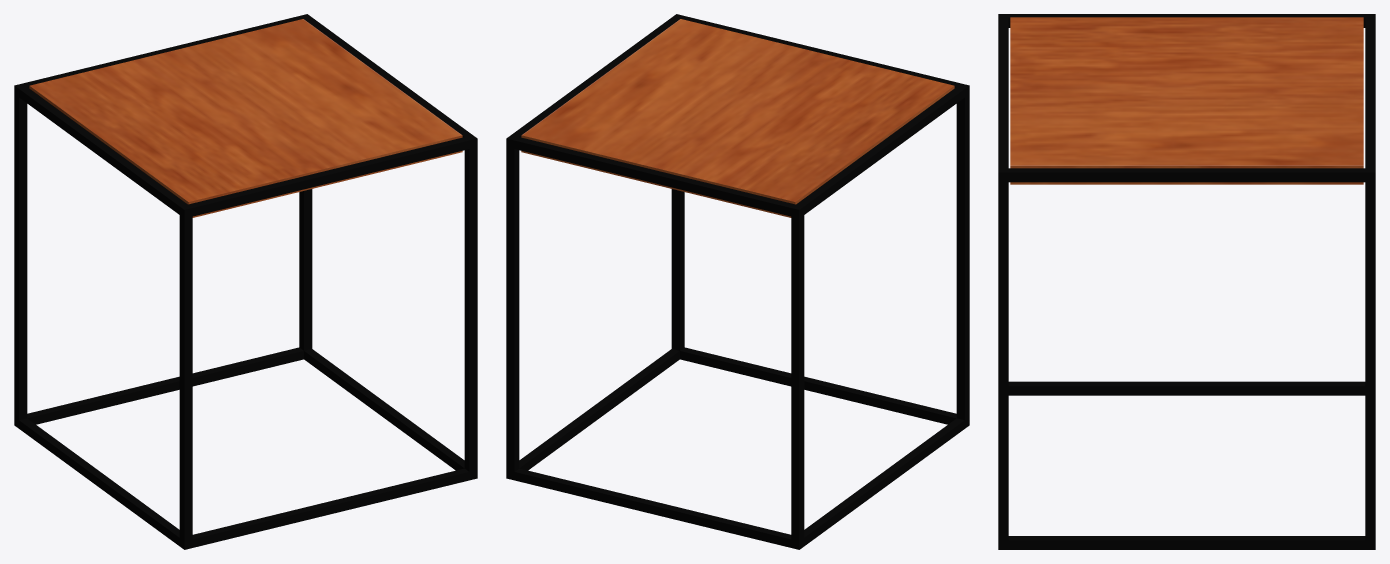
File: Shelf_04_a_Art.fbx
3 views of the same model, side by side, from view 1: azimuth 30°, elevation 25°; view 2: azimuth 150°, elevation 25°; view 3: azimuth 270°, elevation 25° (orthographic). The views are drawn at different scales.
Visible parts, largest first — view 1: Shelf_04_a; view 2: Shelf_04_a; view 3: Shelf_04_a.
Part boxes in pixels (x1,y1,x2,y2): Shelf_04_a: (14, 14, 477, 549); Shelf_04_a: (506, 14, 969, 549); Shelf_04_a: (998, 14, 1375, 549).
Size of the model in its own units: 89.5 by 99.66 by 90.
